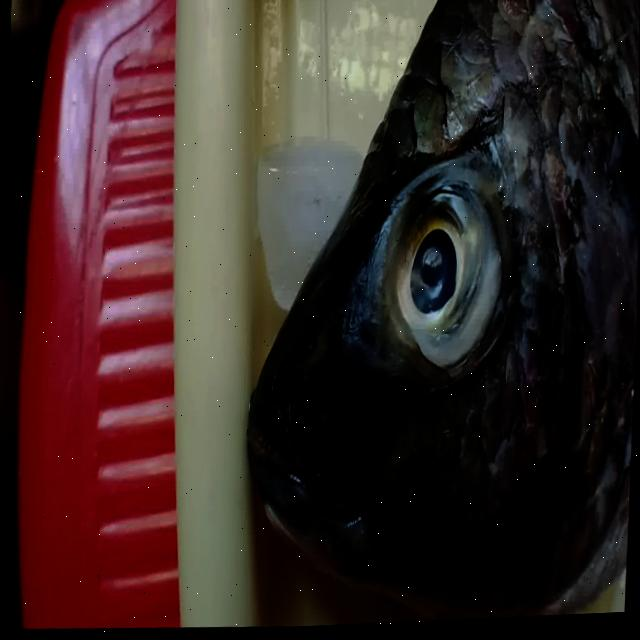Fresh: (353, 157, 516, 431)
